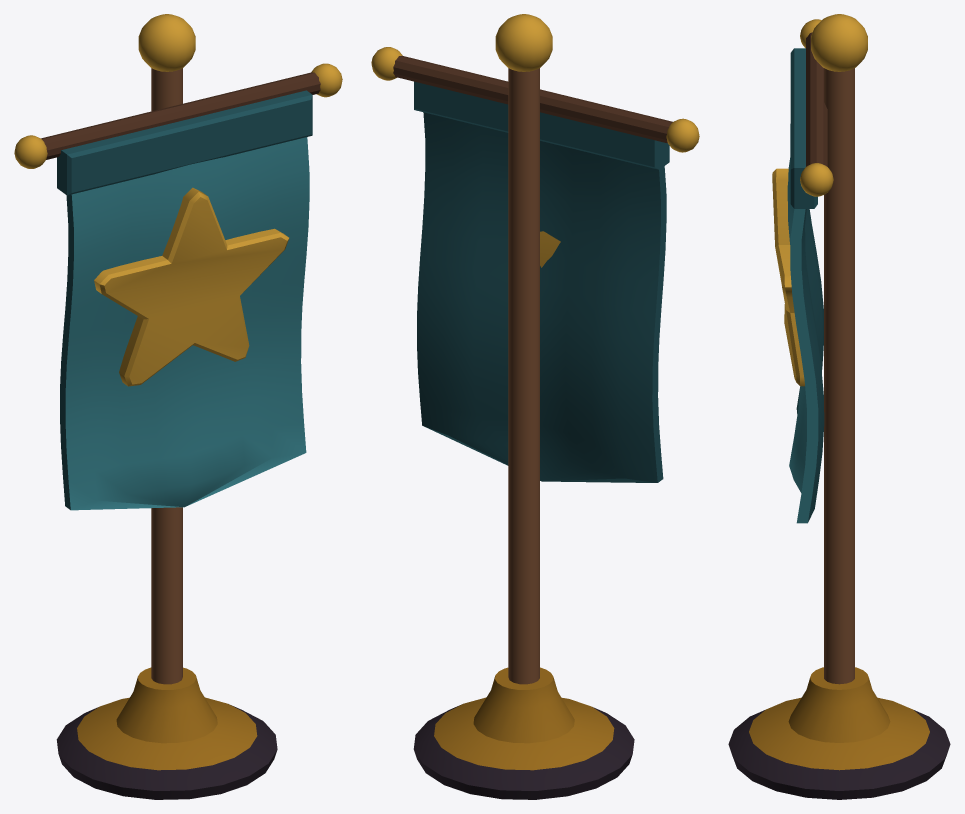
Rendered from Banner_14.glb.
The picture shows the model from 3 angles, left to right: view 1: azimuth 30°, elevation 25°; view 2: azimuth 150°, elevation 25°; view 3: azimuth 270°, elevation 25°; orthographic projection.
Parts seen in each view (by area): view 1: Banner_14; view 2: Banner_14; view 3: Banner_14.
Boxes of the visible parts, box(x1,y1,x2,y2) form: Banner_14: box(14, 14, 342, 799); Banner_14: box(371, 14, 699, 799); Banner_14: box(728, 14, 950, 799).
Size of the model in its own units: 3.3 by 7.18 by 1.96.
